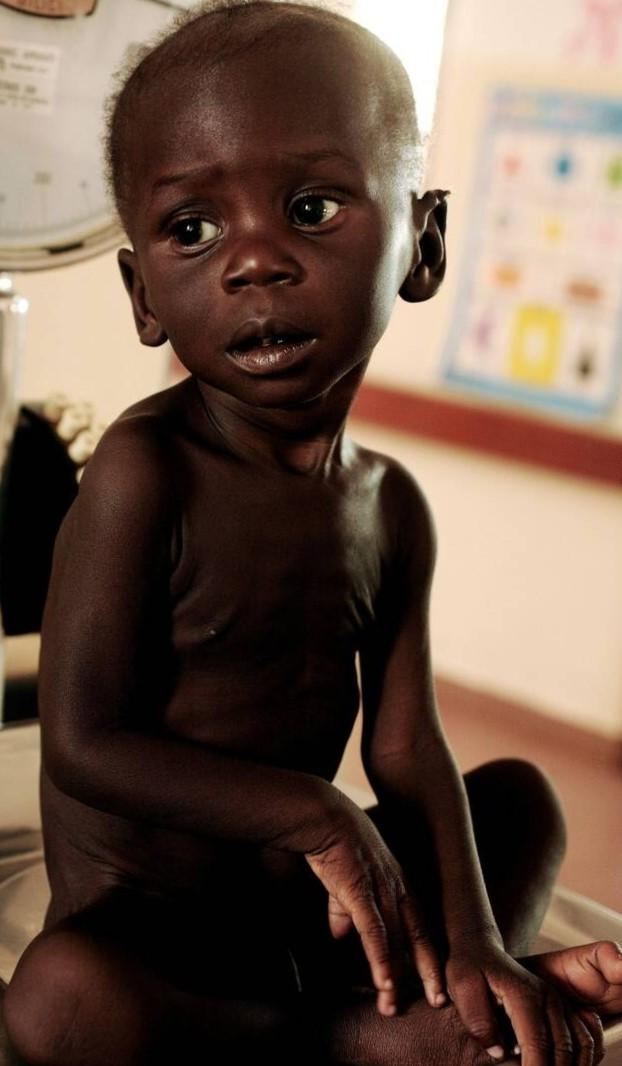Stunting: (82, 0, 468, 435)
